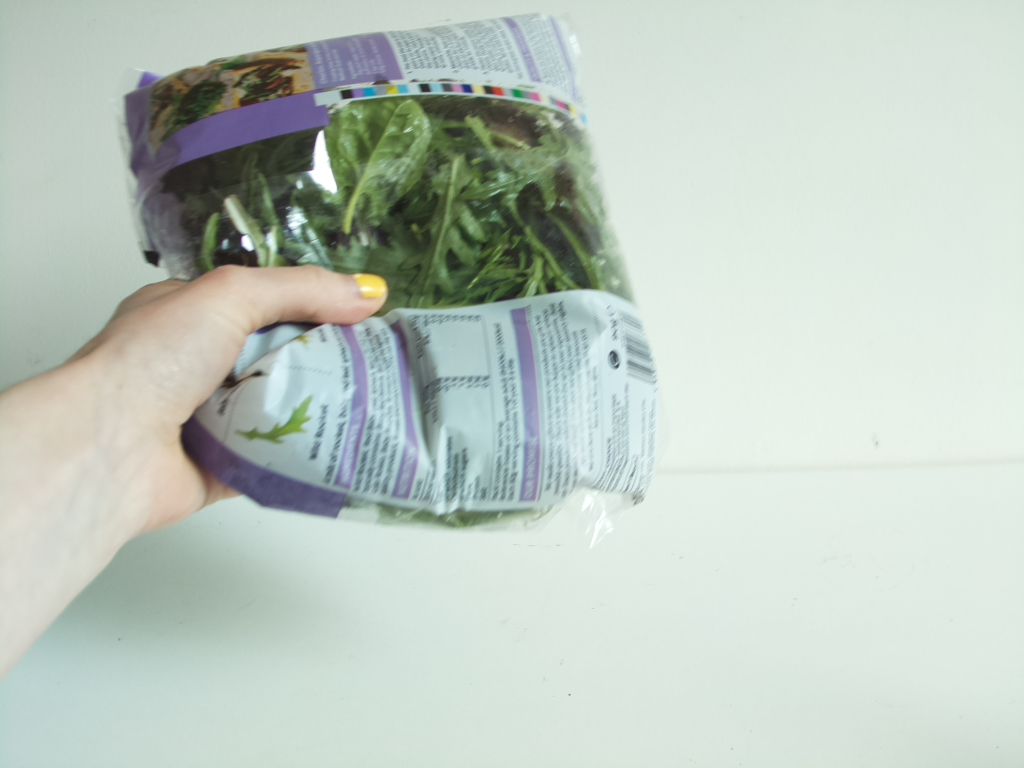salad: (129, 12, 666, 519)
